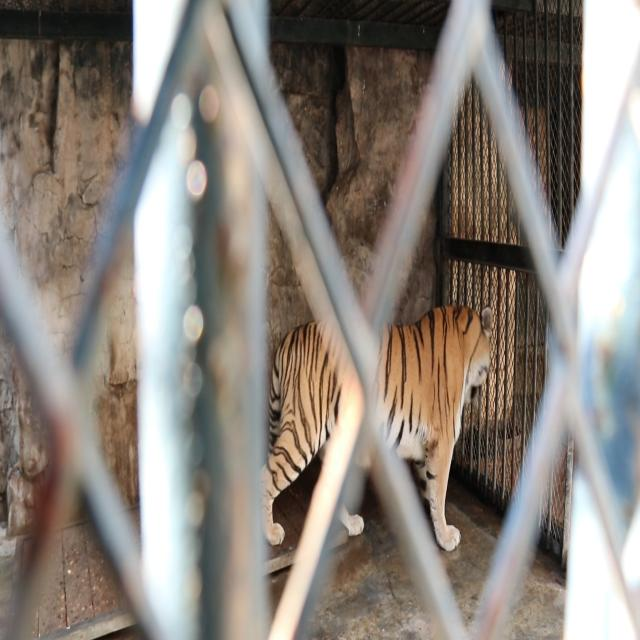Tiger: (260, 263, 508, 581)
